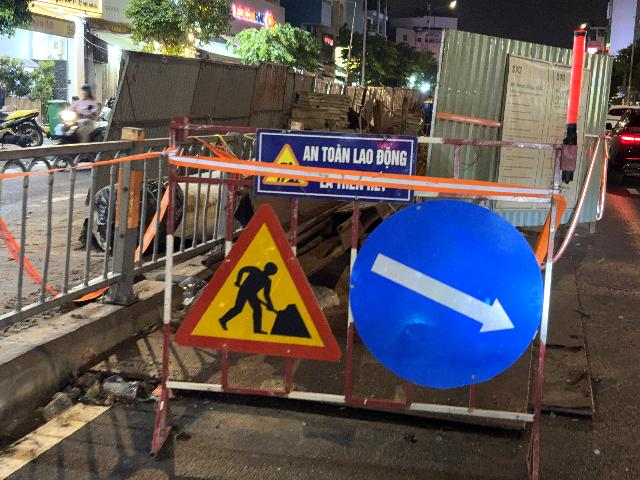cong-truong-dang-thi-cong: (175, 202, 342, 362)
huong-phai-di-vong-chuong-ngai-vat: (350, 199, 544, 388)
